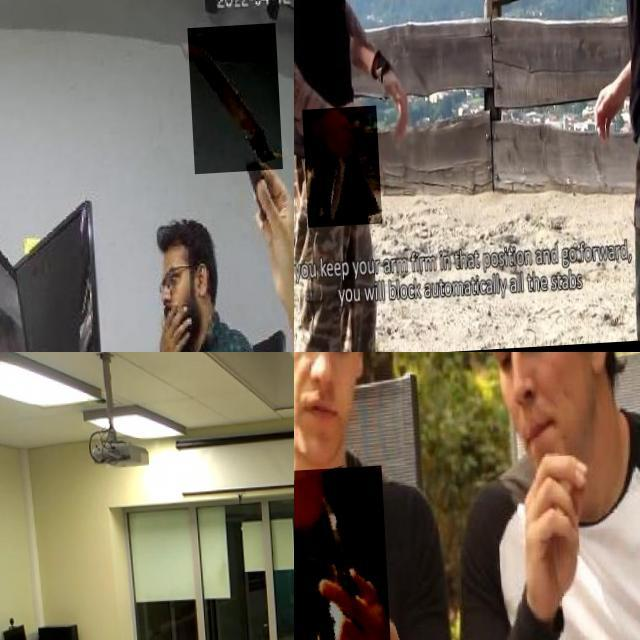-: (294, 468, 386, 640), (187, 30, 280, 180), (298, 109, 377, 230)
